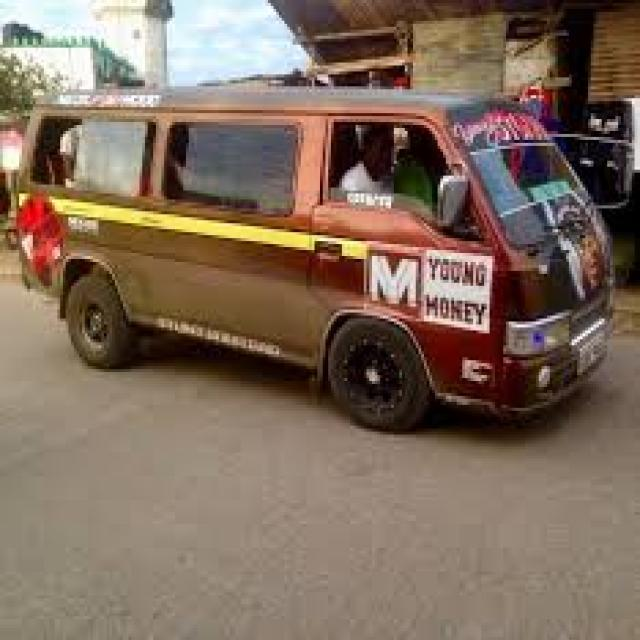matatu: (11, 40, 640, 520)
